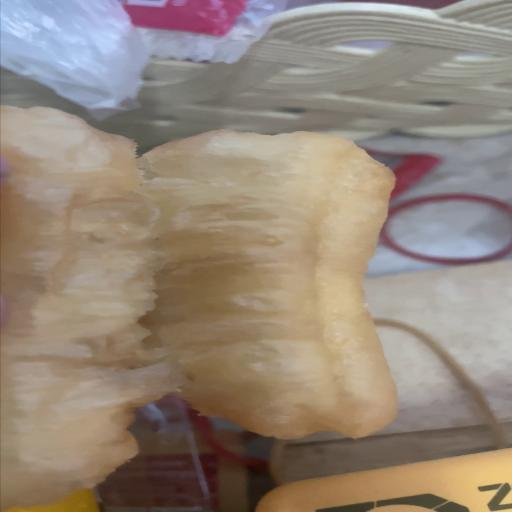street_golden_defect: (1, 127, 400, 484)
